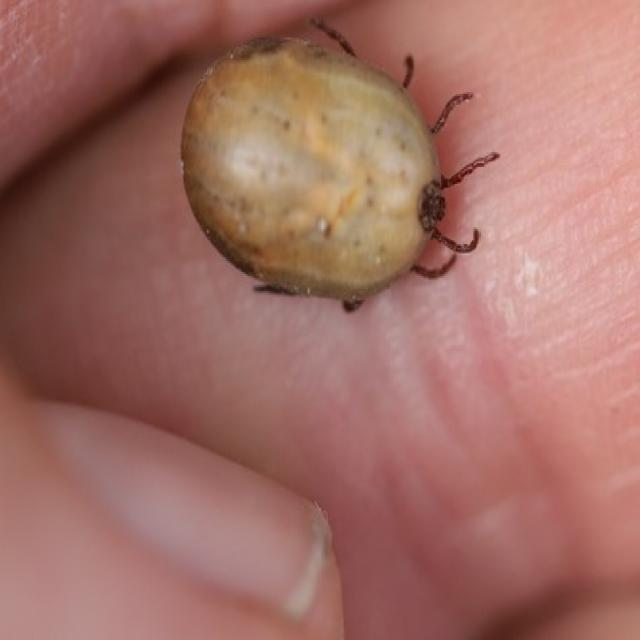Dermacentor Reticulatus-F-Fed: (180, 19, 499, 313)
